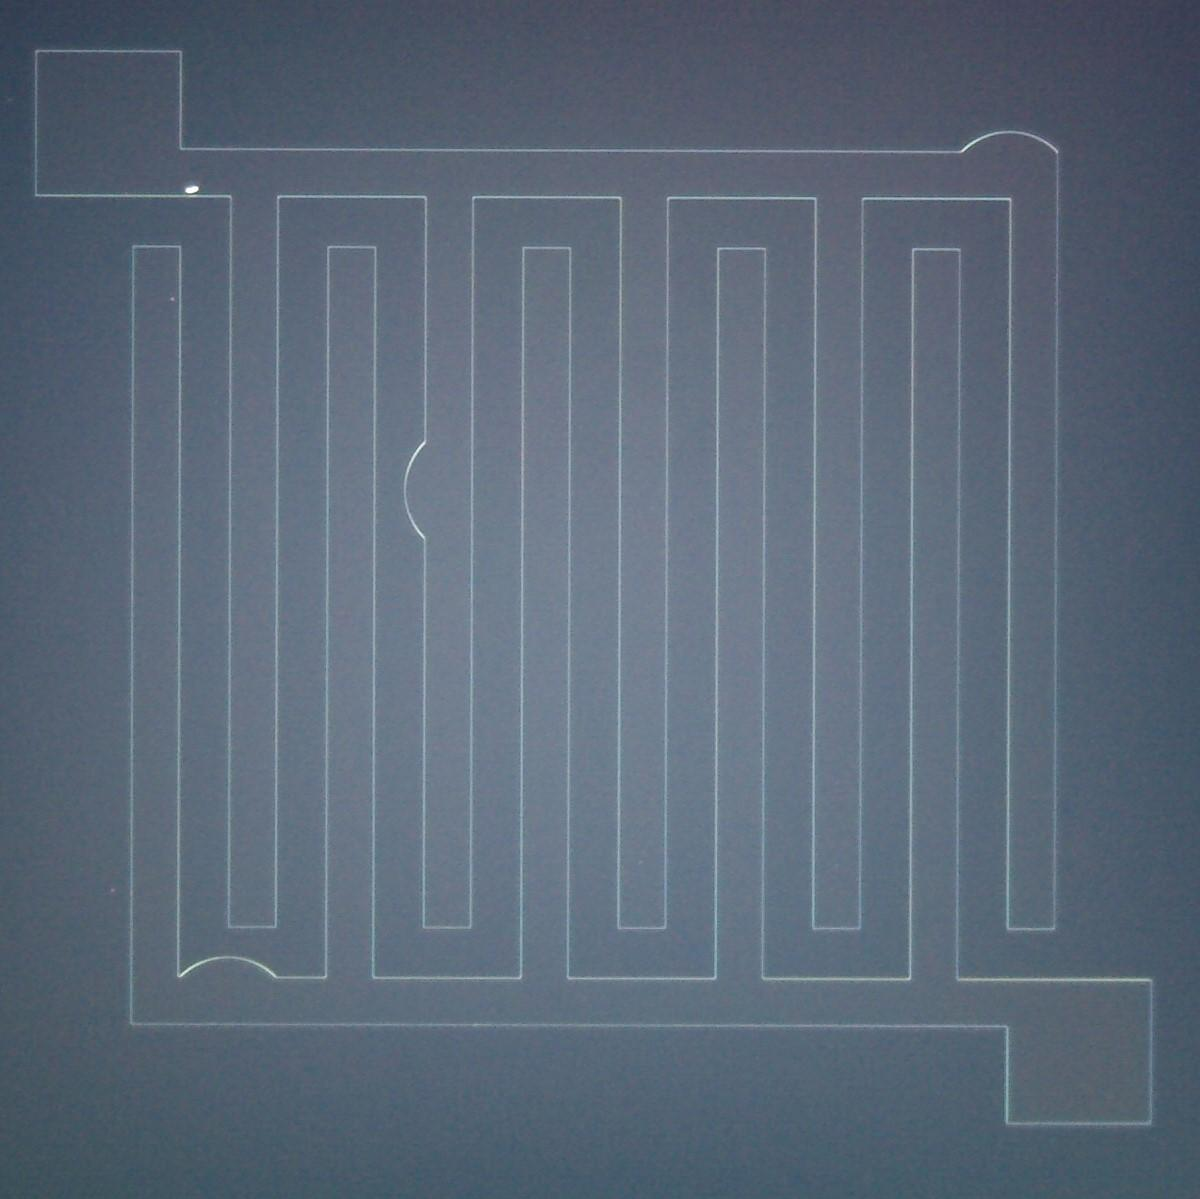B_point: (181, 181, 204, 199)
project: (385, 422, 458, 559), (935, 116, 1070, 181), (164, 943, 290, 1002)
s_point: (164, 291, 181, 306), (633, 853, 649, 871), (3, 92, 19, 108), (105, 884, 121, 897)
